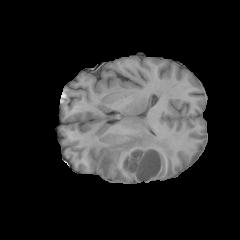glioma: (96, 132, 175, 181)
